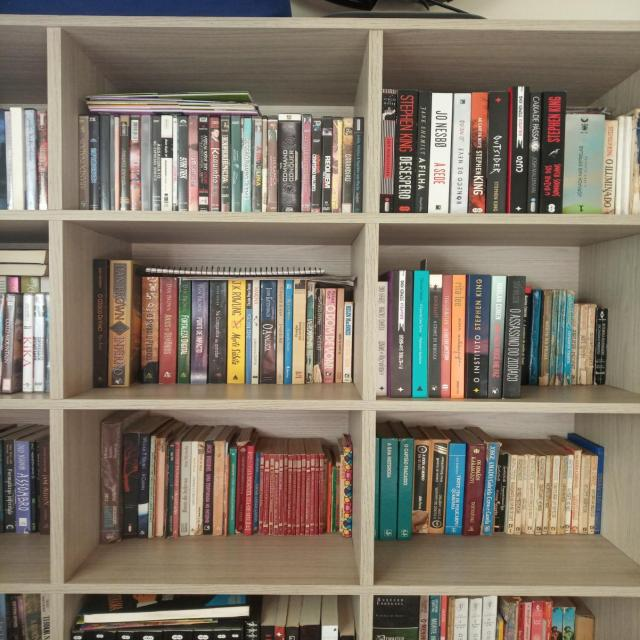book: (564, 114, 600, 215), (542, 92, 562, 212), (429, 94, 448, 212), (466, 276, 484, 398), (109, 260, 126, 389), (391, 269, 408, 396), (278, 113, 299, 212), (509, 87, 525, 213), (469, 93, 485, 213), (490, 93, 506, 213), (397, 91, 412, 211), (454, 93, 468, 213), (208, 282, 224, 384), (527, 92, 540, 212), (505, 277, 518, 397), (93, 260, 105, 388), (382, 87, 394, 211), (140, 277, 154, 383), (415, 90, 427, 213), (228, 280, 242, 384), (260, 279, 274, 383), (102, 422, 114, 542), (176, 282, 190, 383), (380, 438, 394, 538), (160, 277, 173, 384), (412, 440, 427, 532), (451, 273, 462, 398), (616, 116, 630, 214), (489, 278, 500, 397), (428, 440, 442, 532), (414, 269, 424, 397), (123, 432, 135, 537), (448, 444, 462, 534), (376, 282, 387, 395), (429, 274, 439, 398), (192, 282, 204, 383), (3, 295, 15, 393), (20, 296, 32, 394), (602, 120, 614, 214), (469, 444, 481, 534), (10, 107, 20, 210), (23, 108, 33, 211), (208, 118, 219, 211), (36, 107, 46, 209), (292, 282, 302, 382), (400, 439, 410, 539), (342, 116, 352, 213), (2, 436, 12, 533), (324, 287, 334, 383), (16, 436, 26, 532), (520, 279, 529, 385), (220, 117, 230, 211), (76, 116, 86, 208), (89, 118, 99, 209), (33, 294, 42, 394), (300, 114, 309, 212), (540, 289, 549, 386), (441, 274, 448, 398), (198, 115, 207, 211), (354, 117, 363, 213), (187, 116, 196, 211), (251, 116, 260, 211), (130, 115, 139, 209), (119, 115, 128, 209), (231, 116, 240, 210), (306, 283, 314, 382), (311, 115, 319, 213), (322, 115, 330, 213), (138, 438, 146, 536), (241, 116, 249, 212), (268, 116, 276, 212), (331, 116, 339, 212), (334, 286, 342, 382), (552, 287, 560, 383), (161, 116, 169, 210), (204, 440, 212, 534), (178, 117, 186, 209), (100, 120, 108, 210), (283, 281, 290, 383), (486, 445, 494, 532), (595, 308, 604, 384), (313, 285, 320, 381), (41, 439, 48, 534), (151, 116, 158, 210), (30, 439, 37, 533), (215, 441, 222, 535), (344, 448, 351, 536), (275, 282, 281, 382), (252, 283, 258, 382), (156, 440, 162, 538), (142, 115, 148, 209), (532, 292, 538, 386), (558, 455, 565, 534), (195, 443, 201, 535), (586, 305, 593, 383), (580, 456, 587, 534), (245, 446, 251, 534), (228, 448, 234, 534), (574, 450, 580, 534), (181, 439, 186, 536), (113, 115, 118, 211), (173, 440, 178, 536), (543, 454, 549, 534), (261, 118, 266, 212), (579, 304, 585, 382), (344, 303, 350, 380), (237, 444, 242, 534), (165, 446, 170, 535), (245, 283, 249, 383), (150, 436, 154, 536), (4, 111, 8, 210), (567, 456, 572, 534), (536, 457, 541, 533), (108, 116, 112, 210), (190, 442, 194, 534), (338, 452, 342, 536), (517, 455, 521, 534), (592, 455, 596, 533), (509, 456, 513, 534), (522, 456, 526, 532), (172, 118, 175, 210), (332, 465, 336, 533), (599, 450, 602, 532), (319, 454, 322, 534), (258, 454, 261, 534), (315, 455, 318, 535), (311, 454, 314, 534), (264, 454, 267, 534), (269, 454, 272, 534), (275, 454, 278, 534), (279, 454, 282, 534), (528, 454, 531, 534), (501, 454, 504, 532), (326, 464, 329, 532), (225, 453, 227, 535), (254, 451, 256, 533), (292, 454, 294, 536), (297, 454, 299, 535), (306, 454, 308, 534), (301, 454, 303, 534), (283, 454, 285, 534), (288, 454, 290, 534)
